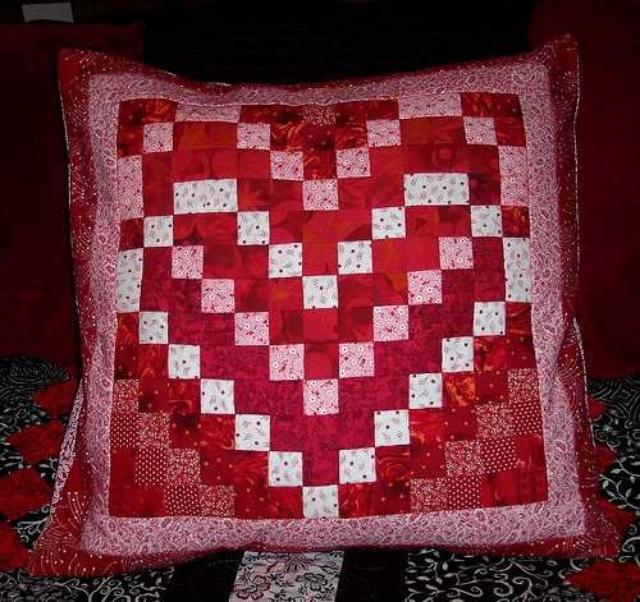pillow: (23, 32, 622, 576)
